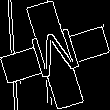M_S: (26, 24, 84, 86)
